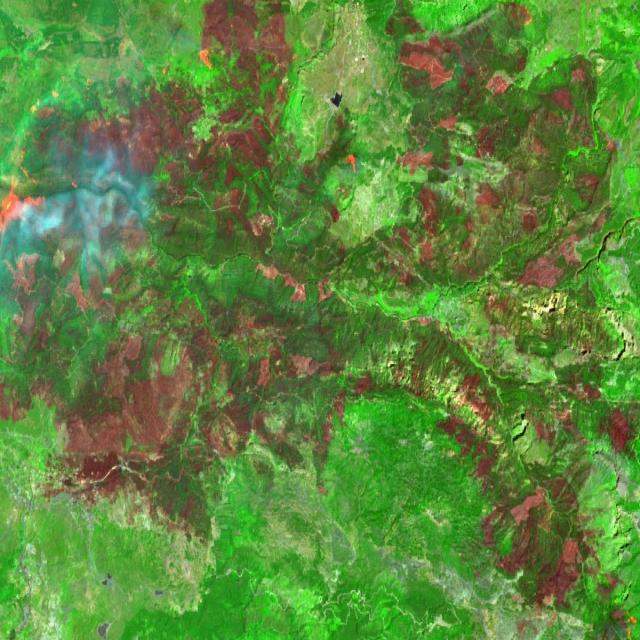fire: (0, 154, 52, 248), (190, 35, 237, 81), (340, 144, 375, 191)
